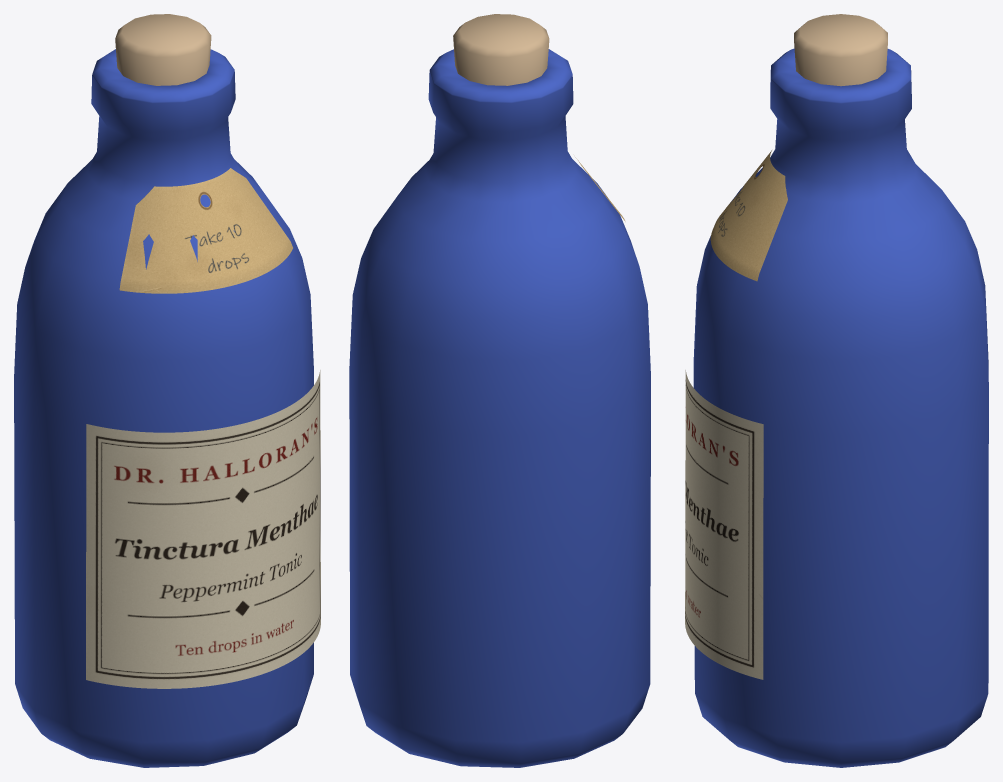
File: v2_apothecary_tonic_low.glb
3 views of the same model, side by side, from view 1: azimuth 30°, elevation 25°; view 2: azimuth 150°, elevation 25°; view 3: azimuth 270°, elevation 25° (orthographic).
Visible parts, largest first — view 1: Glass, Labels, Cap; view 2: Glass, Cap; view 3: Glass, Labels, Cap.
Part boxes in pixels (x1,y1,x2,y2): Glass: (14,49,313,767); Labels: (86,168,320,688); Cap: (115,14,211,85); Glass: (349,49,650,767); Cap: (453,14,549,85); Glass: (693,48,988,767); Labels: (685,150,787,679); Cap: (794,14,887,86).
Bounding box in the file's own units: 0.047 × 0.1177 × 0.0474.
4 materials, 1 textured.
